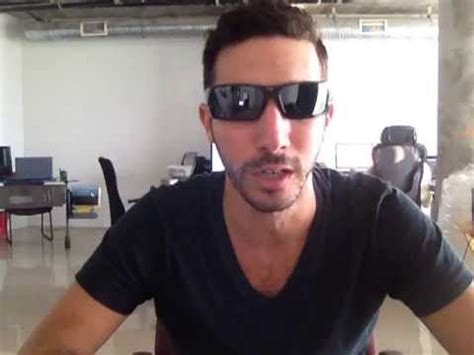sem_capacete: (202, 6, 337, 214)
